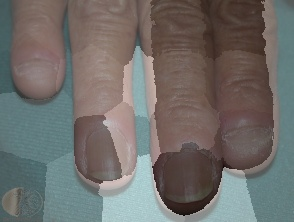Nail_psoriasis: (213, 102, 281, 166), (10, 41, 65, 85)
